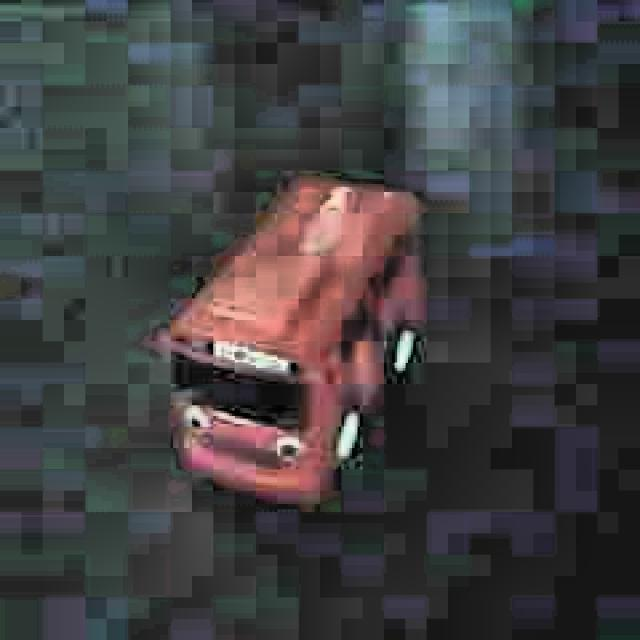bus: (132, 161, 438, 529)
